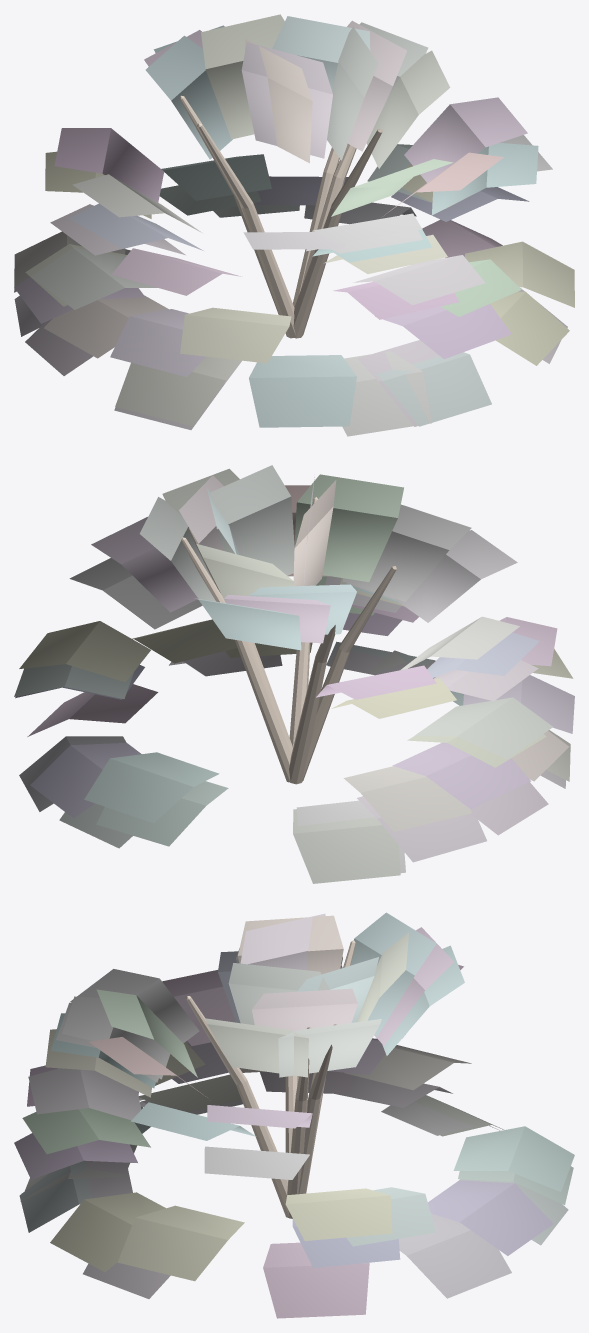
The model's file is bush_2.glb.
3 views of the same model, one above another, from view 1: azimuth 30°, elevation 25°; view 2: azimuth 150°, elevation 25°; view 3: azimuth 270°, elevation 25° (orthographic).
Parts seen in each view (by area): view 1: bush_2; view 2: bush_2; view 3: bush_2.
Boxes of the visible parts, x1=… form: bush_2: x1=14, y1=14, x2=574, y2=436; bush_2: x1=14, y1=465, x2=574, y2=883; bush_2: x1=14, y1=912, x2=574, y2=1318.
Bounding box in the file's own units: 1.26 × 0.7086 × 1.26.
